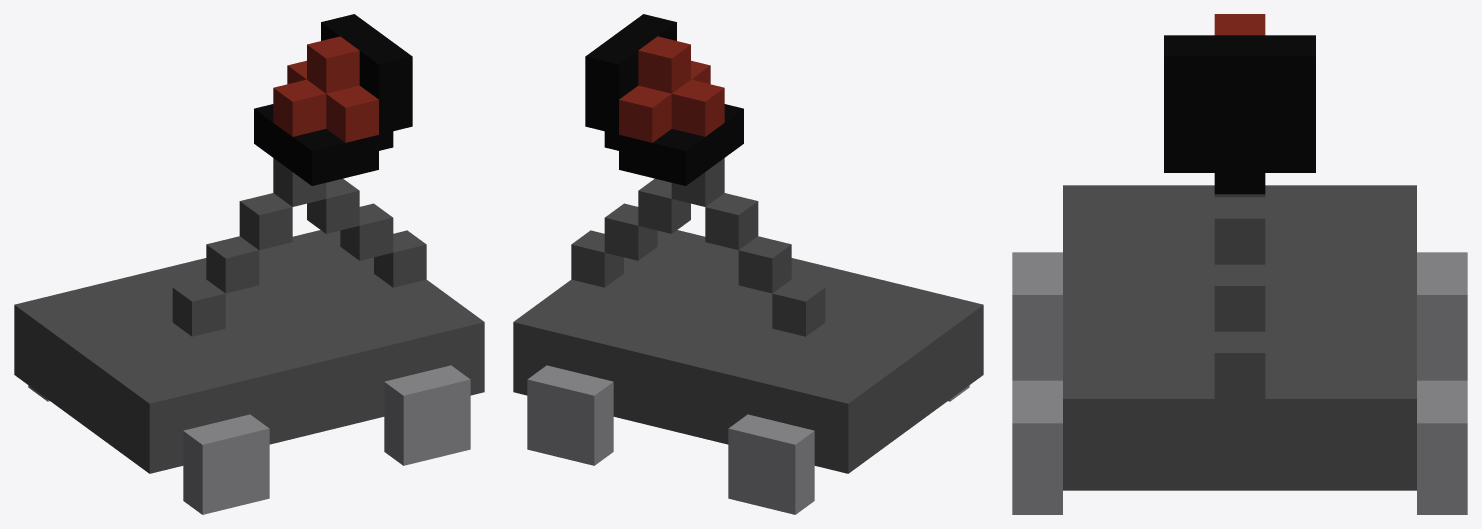
The model's file is catapult.glb.
The picture shows the model from 3 angles, left to right: view 1: azimuth 30°, elevation 25°; view 2: azimuth 150°, elevation 25°; view 3: azimuth 270°, elevation 25°; orthographic projection. The views are drawn at different scales.
Parts seen in each view (by area): view 1: catapult; view 2: catapult; view 3: catapult.
Boxes of the visible parts, x1,y1,x2,y2 form: catapult: (14, 14, 484, 514); catapult: (513, 14, 983, 514); catapult: (1012, 14, 1467, 514).
Bounding box in the file's own units: 0.5146 × 0.5146 × 0.4631.
Materials: 1 (1 with a texture image).
